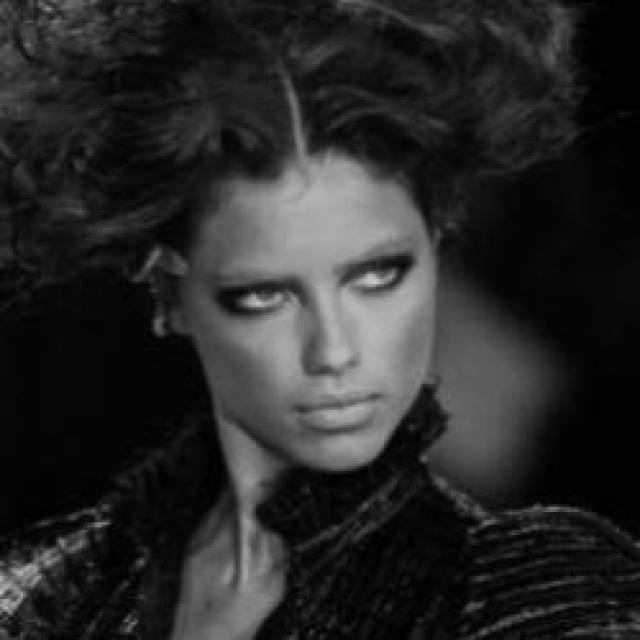real: (180, 152, 442, 476), (212, 241, 430, 313)
